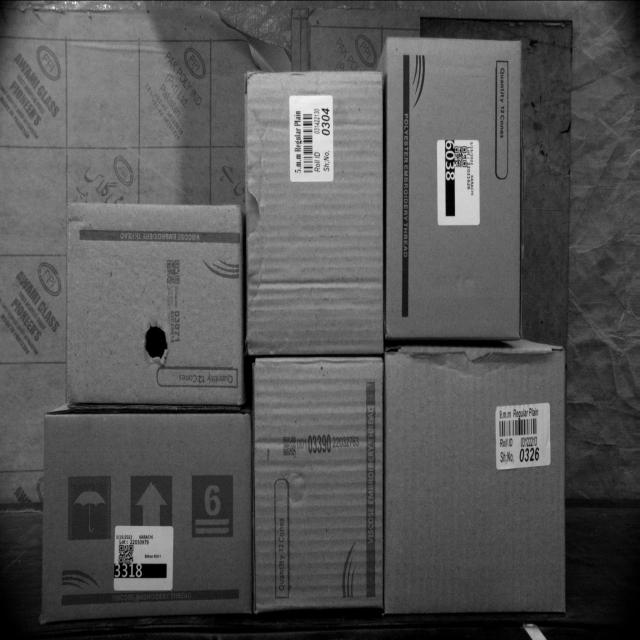cardboxes: (384, 349, 568, 616), (43, 409, 254, 615), (385, 40, 524, 346), (246, 72, 384, 355), (68, 205, 243, 412), (254, 355, 386, 613)
